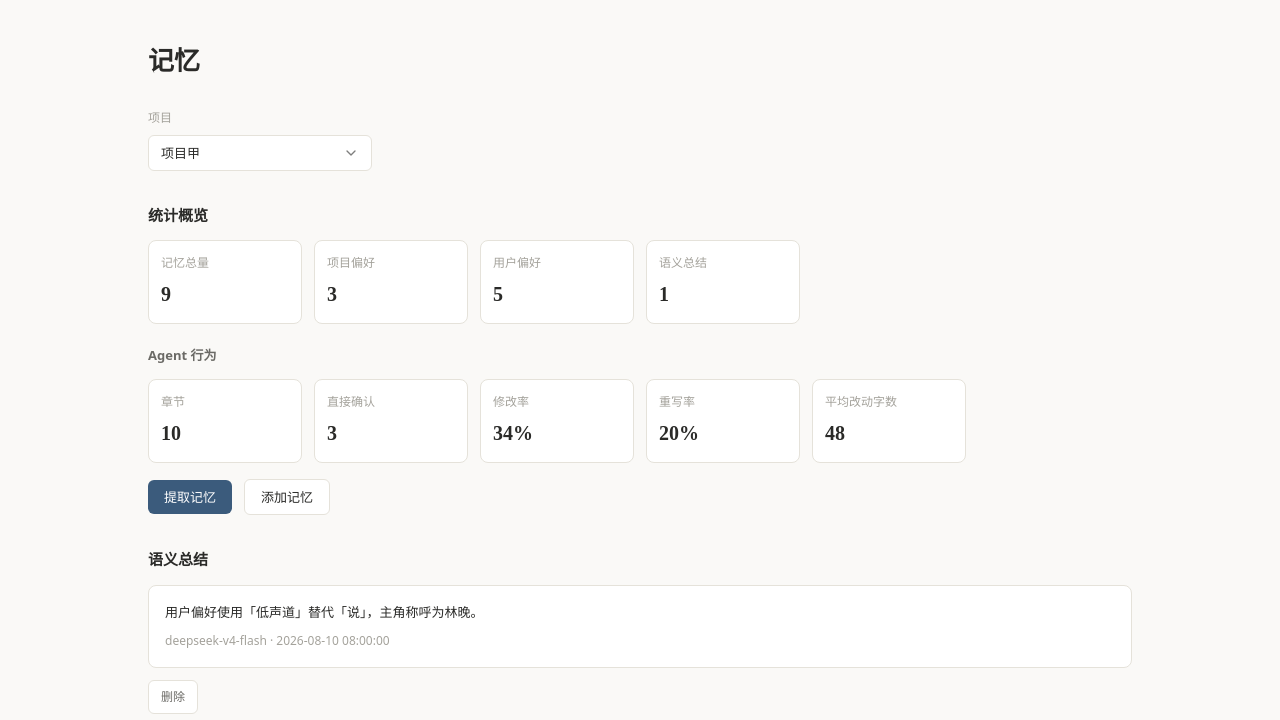
记忆页 — 提取记忆 › 提取失败（后端 502 语义）→ memory-extract-error 展示错误
This screenshot has width=1280, height=720.
Expected: the element with test id "memory-summary-card" is shown, [148, 584, 1132, 668]
Click the button with test id "memory-extract-btn": click(190, 497) [148, 480, 232, 514]
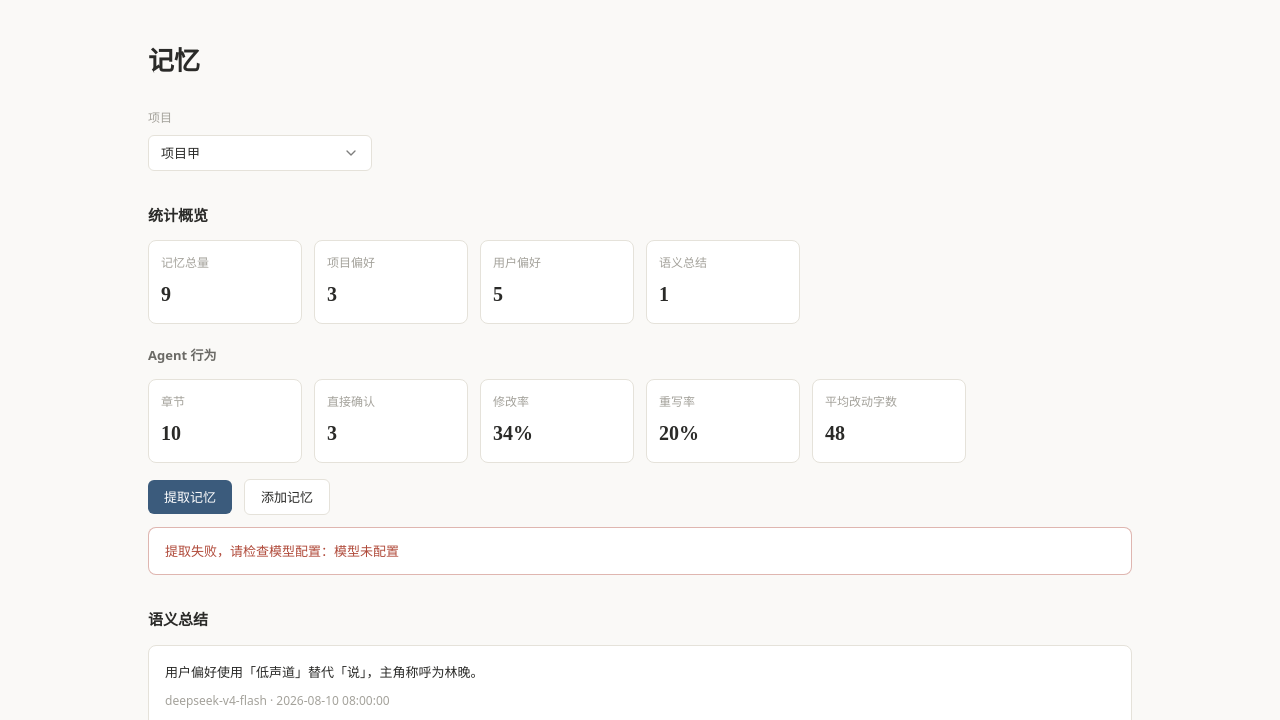
Result: the text with test id "memory-extract-error" shows "模型未配置" at [334, 542, 399, 560]
